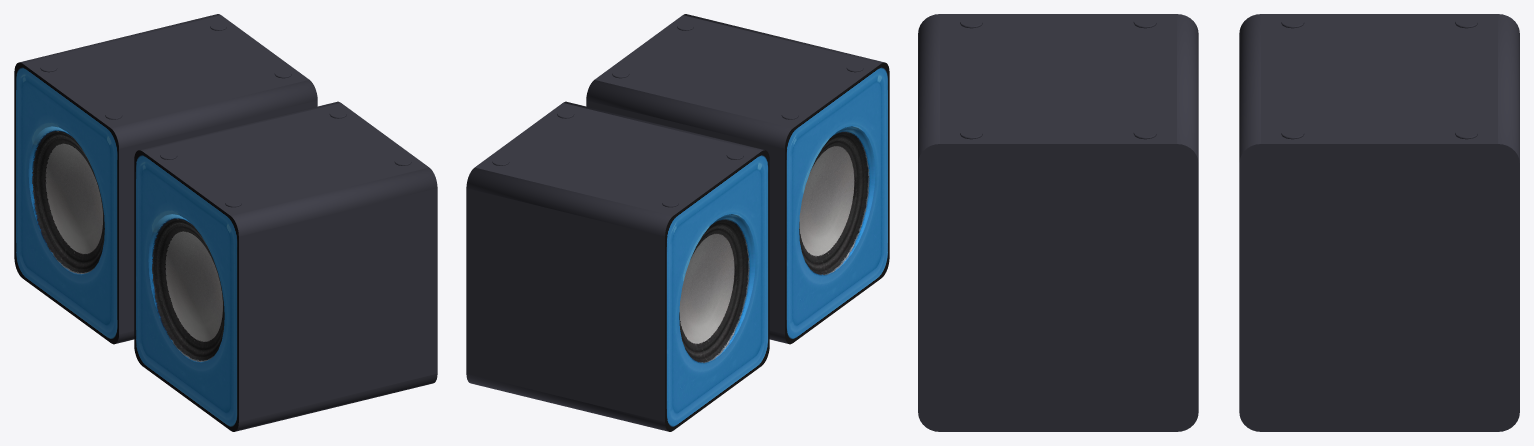
Rendered from 2D94465E-FDD7-41F3-A98B-4A54CE26584E.dae.
The picture shows the model from 3 angles, left to right: view 1: azimuth 30°, elevation 25°; view 2: azimuth 150°, elevation 25°; view 3: azimuth 270°, elevation 25°; orthographic projection. The views are drawn at different scales.
Visible parts, largest first — view 1: Acoustic_2-0_blue; view 2: Acoustic_2-0_blue; view 3: Acoustic_2-0_blue.
Boxes of the visible parts, x1,y1,x2,y2 form: Acoustic_2-0_blue: [14, 14, 437, 431]; Acoustic_2-0_blue: [466, 14, 889, 431]; Acoustic_2-0_blue: [918, 14, 1519, 431].
Size of the model in its own units: 0.0595 by 0.0619 by 0.1164.
Materials: 2 (2 with a texture image).
